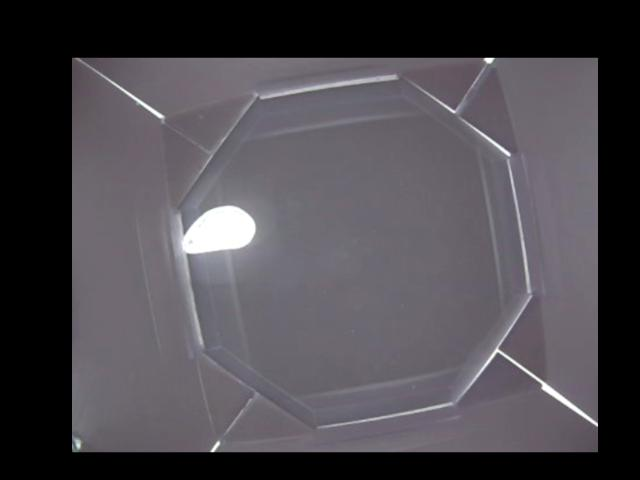Pebble: (179, 205, 255, 252)
